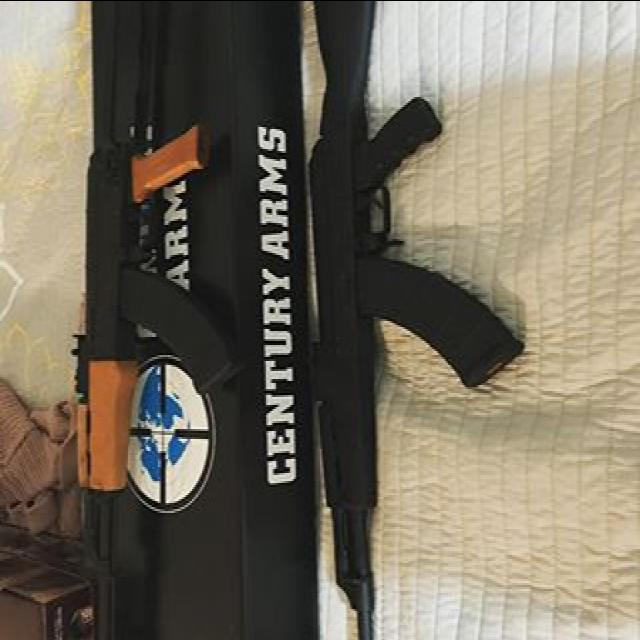rifle: (304, 3, 520, 640), (46, 3, 216, 637)
